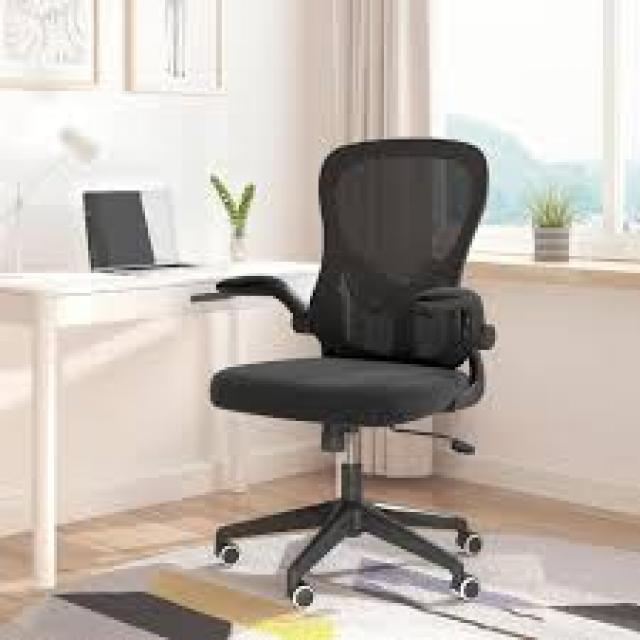chair: (217, 136, 492, 612)
